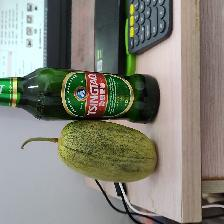gua: (55, 124, 163, 183)
